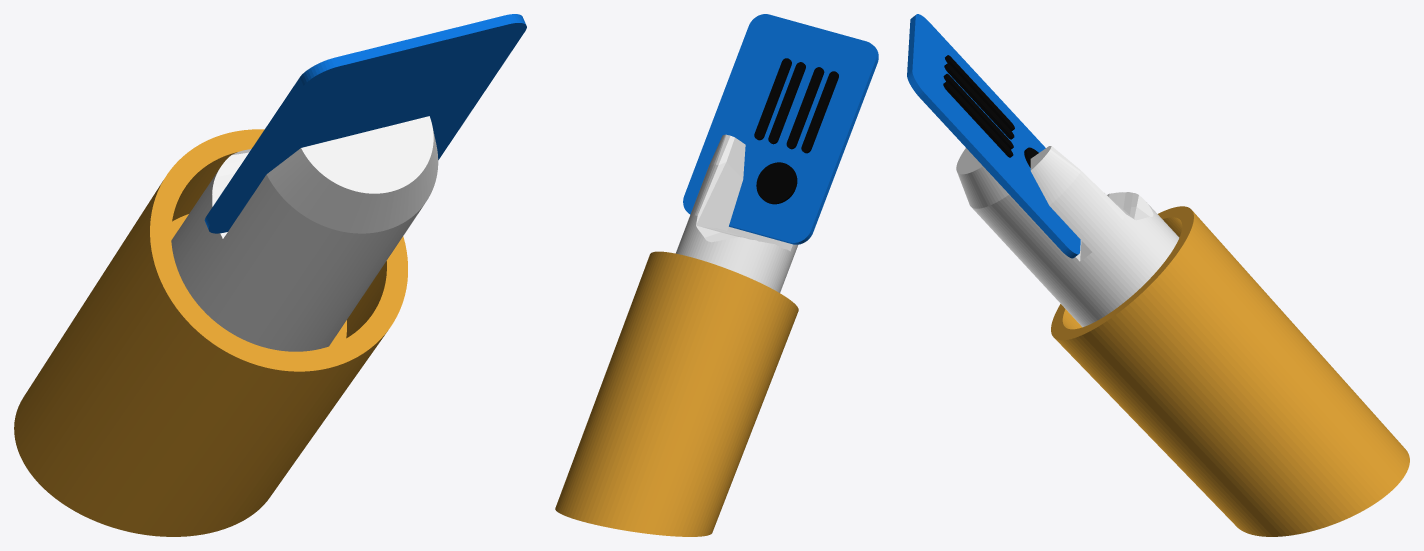
3 views of the same model, side by side, from view 1: azimuth 30°, elevation 25°; view 2: azimuth 150°, elevation 25°; view 3: azimuth 270°, elevation 25° (orthographic). The views are drawn at different scales.
Visible parts, largest first — view 1: Curve.004_CUXMLID_7_.003; view 2: Curve.004_CUXMLID_7_.003; view 3: Curve.004_CUXMLID_7_.003.
Part boxes in pixels (<box>): Curve.004_CUXMLID_7_.003: <box>14,14,526,536</box>; Curve.004_CUXMLID_7_.003: <box>555,14,878,536</box>; Curve.004_CUXMLID_7_.003: <box>907,14,1409,536</box>.
Size of the model in its own units: 0.1704 by 0.4427 by 0.4333.
